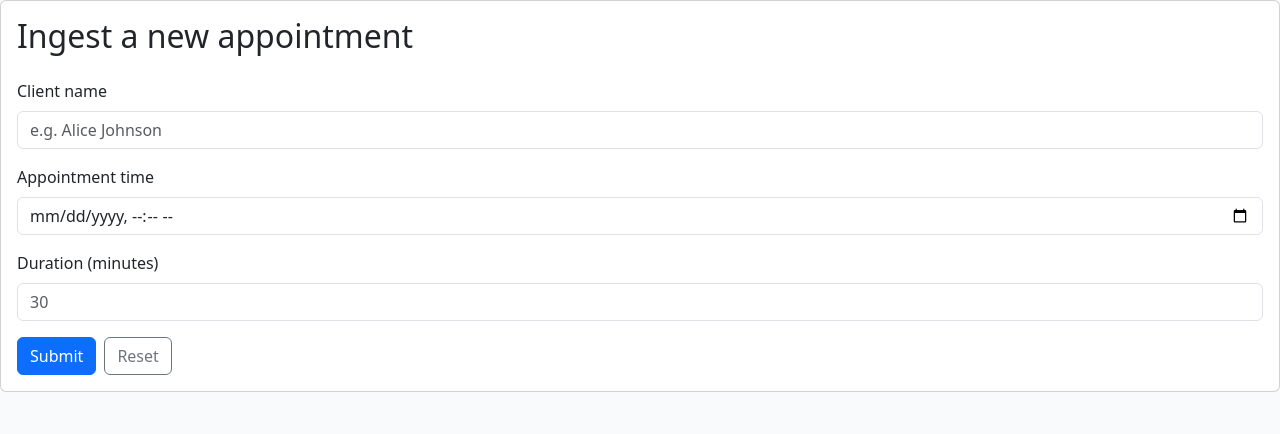
Test case: IngestAppointmentForm › GIVEN appointment time not on hour or half WHEN submit THEN show boundary error
Type "Off Slot" into the field labelled "Client name" at (640, 130), box [17, 111, 1263, 149]
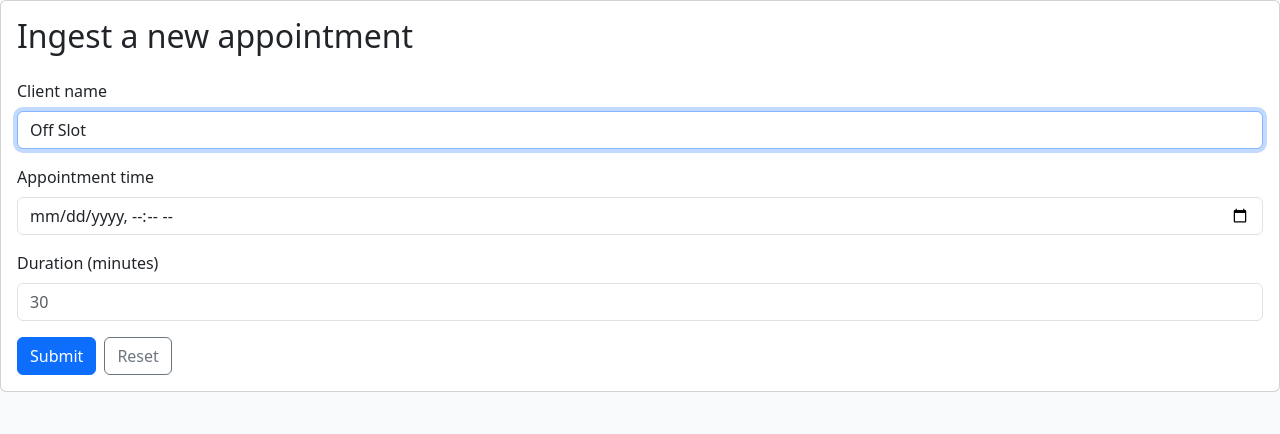
Type "2025-02-01T10:10" into the field labelled "Appointment time" at (640, 216), box [17, 197, 1263, 235]
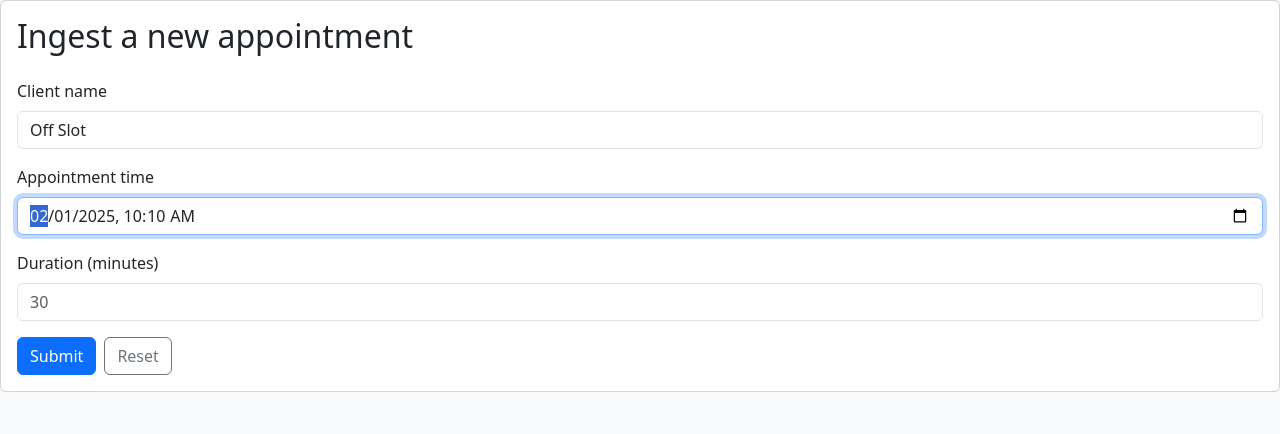
Click the button "Submit" at (57, 356), box [17, 337, 96, 375]
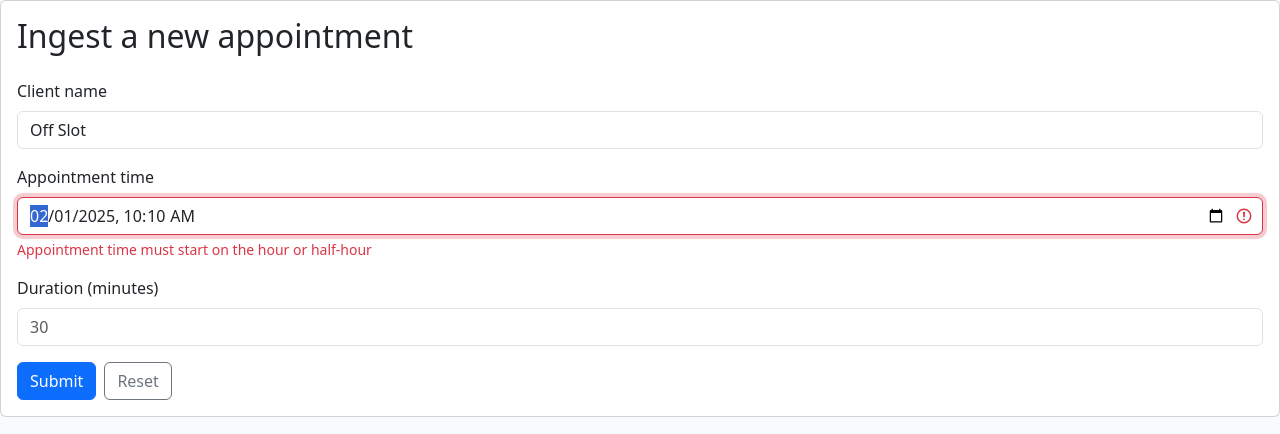
Expected: the text "Appointment time must start on the hour or half-hour" is shown, [17, 240, 372, 259]
